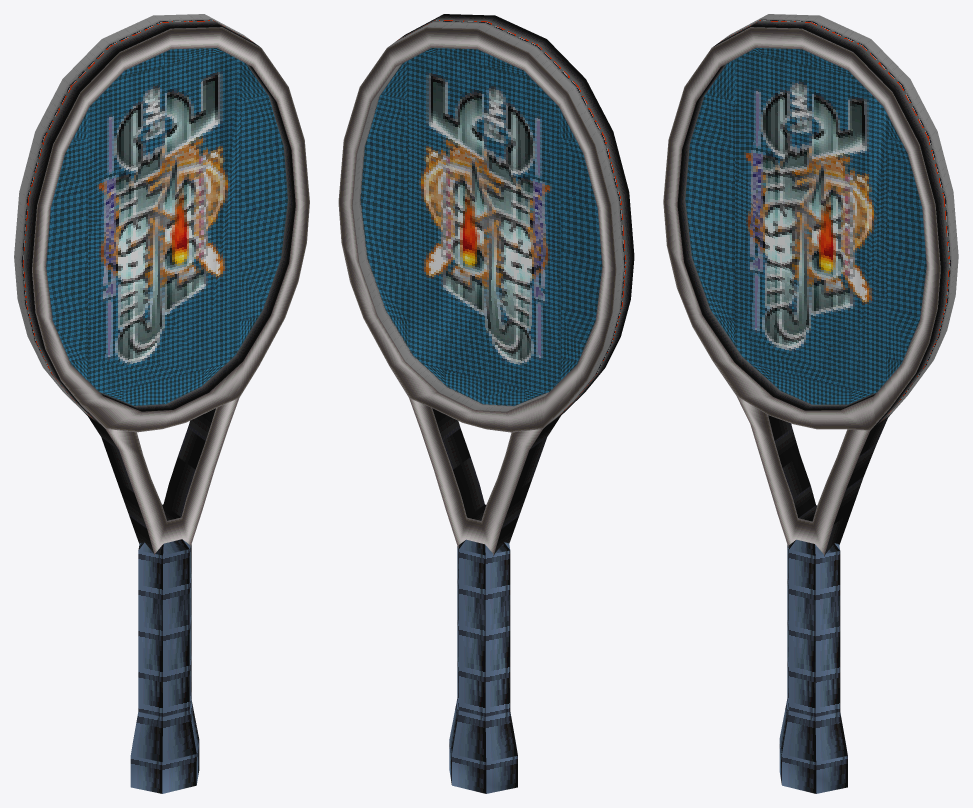
File: ps2_save-icons_lovesmash5.glb
The picture shows the model from 3 angles, left to right: view 1: azimuth 30°, elevation 25°; view 2: azimuth 150°, elevation 25°; view 3: azimuth 330°, elevation 25°; orthographic projection.
Visible parts, largest first — view 1: ICON.ICO; view 2: ICON.ICO; view 3: ICON.ICO.
Part boxes in pixels (x1,y1,x2,y2): ICON.ICO: [14, 14, 309, 793]; ICON.ICO: [338, 14, 634, 793]; ICON.ICO: [663, 14, 958, 793].
Size of the model in its own units: 1.42 by 3.69 by 0.2593.
Materials: 1 (1 with a texture image).
